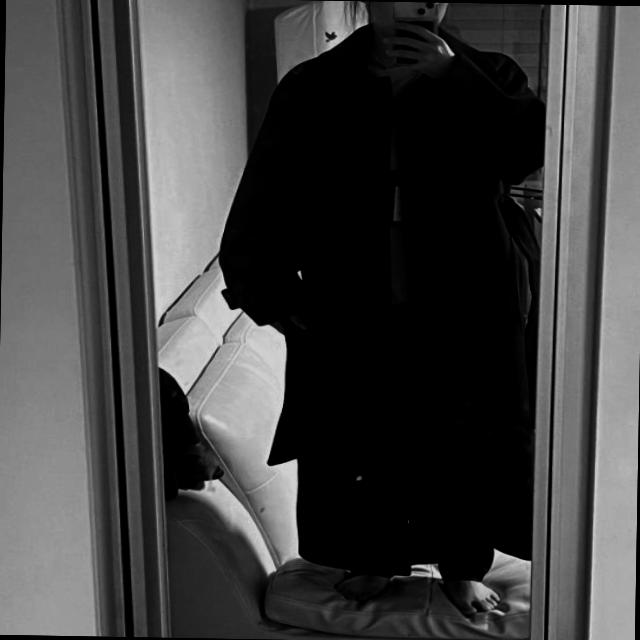coat: (216, 21, 542, 472)
